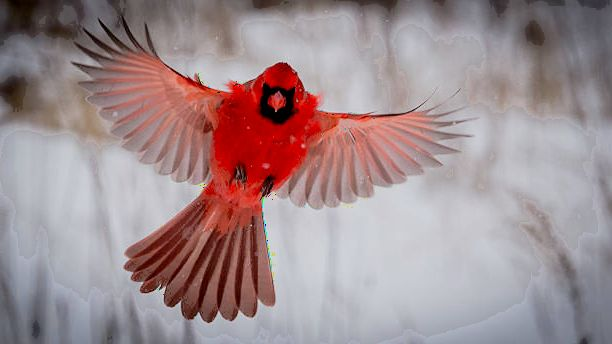Bird: (71, 8, 483, 324)
